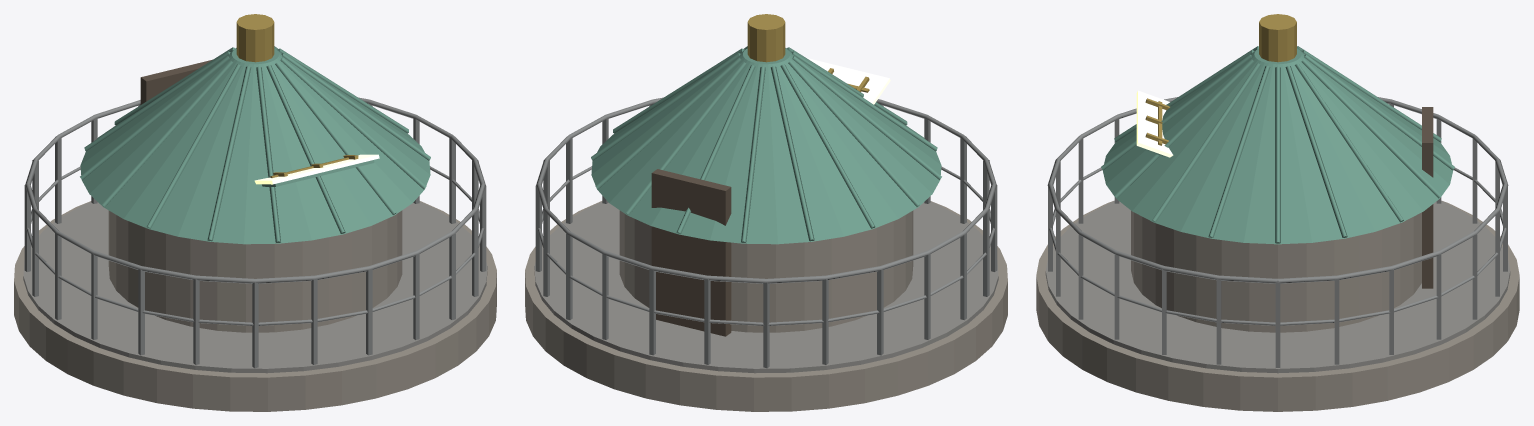
Rendered from sign-lighthouse-window.glb.
3 renders of one model, left to right at view 1: azimuth 30°, elevation 25°; view 2: azimuth 150°, elevation 25°; view 3: azimuth 270°, elevation 25°, orthographic.
Parts seen in each view (by area): view 1: sign-lighthouse-window; view 2: sign-lighthouse-window; view 3: sign-lighthouse-window.
Boxes of the visible parts, bbox=[...] form: sign-lighthouse-window: bbox=[14, 14, 496, 411]; sign-lighthouse-window: bbox=[525, 14, 1007, 411]; sign-lighthouse-window: bbox=[1036, 14, 1519, 411].
Size of the model in its own units: 5.1 by 3.35 by 5.1.
